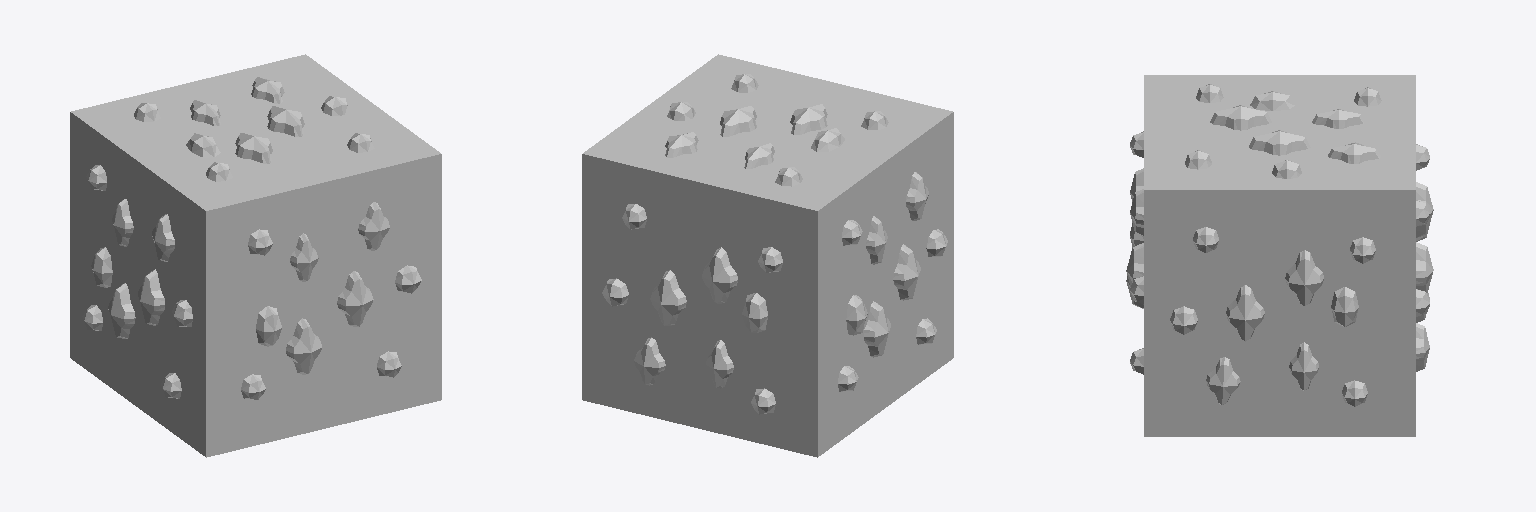
Rendered from Block_Diamond.obj.
3 renders of one model, left to right at view 1: azimuth 30°, elevation 25°; view 2: azimuth 150°, elevation 25°; view 3: azimuth 270°, elevation 25°, orthographic.
Parts seen in each view (by area): view 1: Block_Diamond_Cube.425; view 2: Block_Diamond_Cube.425; view 3: Block_Diamond_Cube.425.
Part boxes in pixels (x1,y1,x2,y2): Block_Diamond_Cube.425: (70,54,441,457); Block_Diamond_Cube.425: (582,54,953,457); Block_Diamond_Cube.425: (1126,75,1433,436).
Bounding box in the file's own units: 2.26 × 2.26 × 2.26.